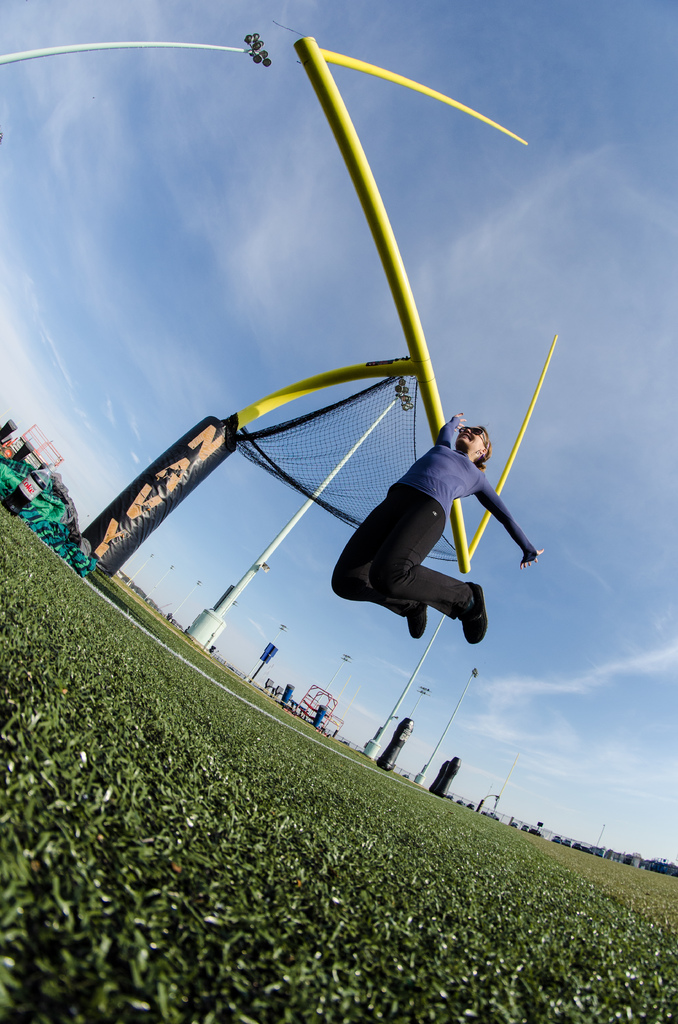Person: (330, 412, 543, 645)
